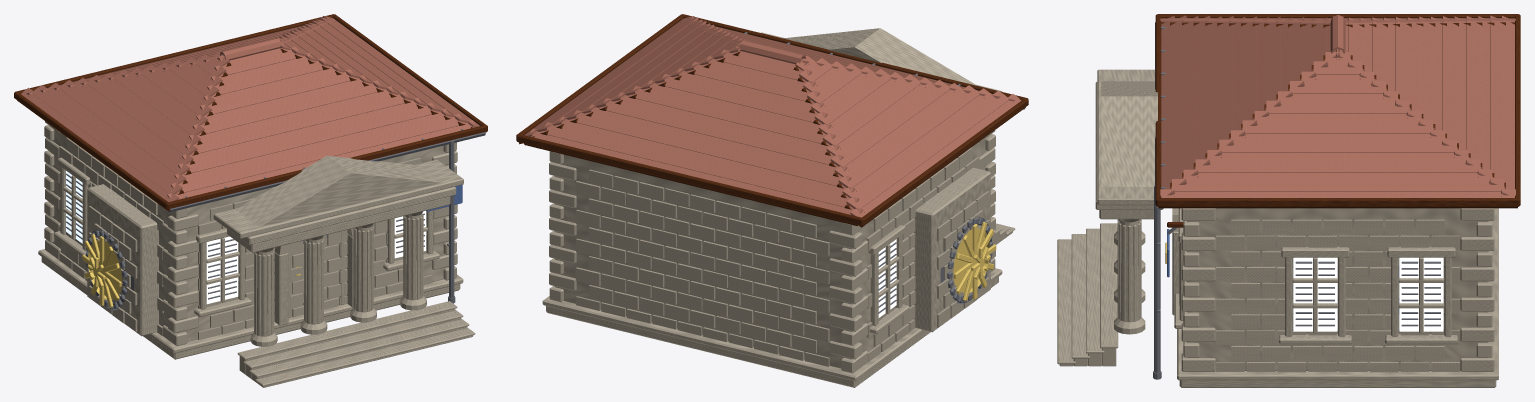
Rendered from fantasy-mmo-city-and-townsfolk-grand-city-bank-4208b772__32741.glb.
The picture shows the model from 3 angles, left to right: view 1: azimuth 30°, elevation 25°; view 2: azimuth 150°, elevation 25°; view 3: azimuth 270°, elevation 25°; orthographic projection. The views are drawn at different scales.
Parts seen in each view (by area): view 1: grand-city-bank, vault/gold, vault/iron; view 2: grand-city-bank, vault/gold, vault/iron; view 3: grand-city-bank.
Boxes of the visible parts, bbox=[...] form: grand-city-bank: bbox=[14, 14, 487, 387]; vault/gold: bbox=[82, 234, 122, 307]; vault/iron: bbox=[85, 228, 133, 310]; grand-city-bank: bbox=[516, 14, 1028, 387]; vault/gold: bbox=[953, 222, 996, 301]; vault/iron: bbox=[940, 215, 992, 304]; grand-city-bank: bbox=[1057, 14, 1520, 387].
Size of the model in its own units: 12.25 by 8 by 12.22.
Materials: 7 (4 with a texture image).
